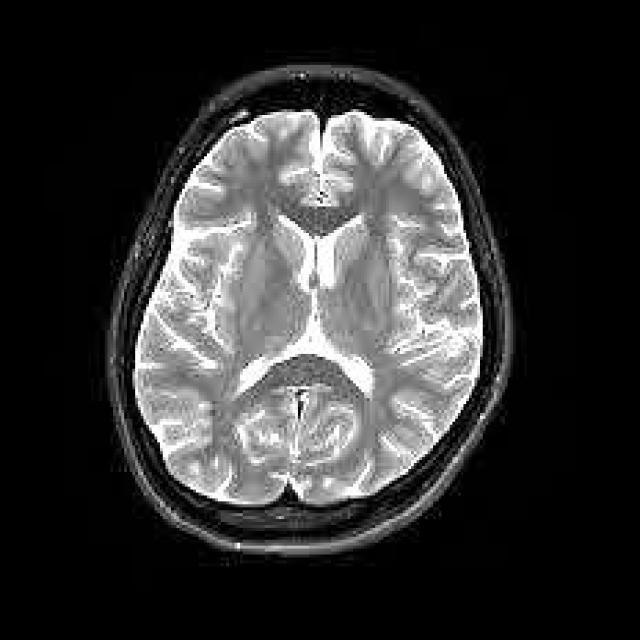notumor: (108, 65, 510, 552)
